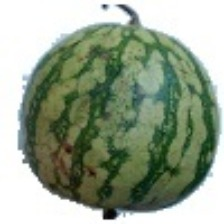watermelon: (16, 0, 172, 198)
